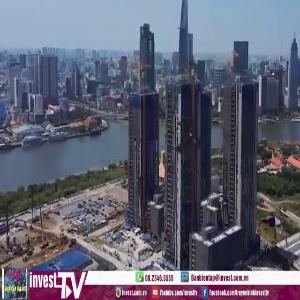drone: (137, 97, 227, 187)
